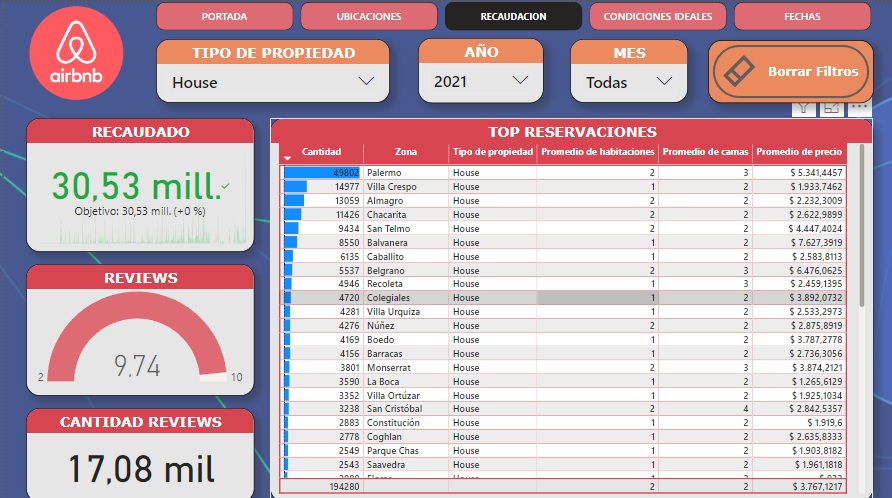

The dashboard page shown, as its layout file describes it:
{"tool":"powerbi","page":{"name":"RECAUDACION","canvas":[1280,720],"ordinal":4},"visuals":[{"type":"kpi","title":"RECAUDADO","fields":{"Indicator":["Sum(calendar.Precio)"],"TrendLine":["calendar.Precio"],"Goal":["Sum(calendar.Precio)"]},"box":[31.4,167.3,328.6,192.7],"z":0},{"type":"card","title":"CANTIDAD REVIEWS","fields":{"Values":["CountNonNull(reviews.Review_ID)"]},"box":[31.4,584,328.6,135.9],"z":1000},{"type":"tableEx","title":"TOP RESERVACIONES","fields":{"Values":["calendar.Lista_ID","listings.barrio","listings.tipo_propiedad","Avg(listings.habitaciones)","Avg(listings.camas)","Avg(listings.price)"]},"box":[382.4,167.3,869.3,552.6],"z":2000},{"type":"gauge","title":"REVIEWS","fields":{"Y":["Avg(listings.review_ubicacion)"],"MaxValue":["Max(listings.review_general)"],"MinValue":["Min(listings.review_general)"]},"box":[31.4,377.9,328.6,189.7],"z":3000},{"type":"image","box":[31.7,0,145.4,146.9],"z":4000},{"type":"slicer","title":"TIPO DE PROPIEDAD","fields":{"Values":["listings.tipo_propiedad"]},"box":[218.9,53.3,337,92.2],"z":5000},{"type":"slicer","title":"AÑO","fields":{"Values":["calendar.Fecha.Variación.Jerarquía de fechas.Año"]},"box":[596.2,51.8,181.4,93.6],"z":6000},{"type":"slicer","title":"MES","fields":{"Values":["calendar.Fecha.Variación.Jerarquía de fechas.Mes"]},"box":[815,53.3,169.9,92.2],"z":7000},{"type":"pageNavigator","box":[218.9,0,1033.9,41.8],"z":8000},{"type":"actionButton","box":[1013.8,54.7,239,90.7],"z":9000}]}

Visuals, with their boxes in screenshot pixels (x1, y1, x2, y2), scaled from the page's 1280x720 canvas onto the 892x498 screenshot:
"RECAUDADO" kpi: detection(22, 116, 251, 249)
"CANTIDAD REVIEWS" card: detection(22, 404, 251, 497)
"TOP RESERVACIONES" tableEx: detection(266, 116, 872, 497)
"REVIEWS" gauge: detection(22, 261, 251, 393)
image: detection(22, 0, 123, 102)
"TIPO DE PROPIEDAD" slicer: detection(153, 37, 387, 101)
"AÑO" slicer: detection(415, 36, 542, 101)
"MES" slicer: detection(568, 37, 686, 101)
pageNavigator: detection(153, 0, 873, 29)
actionButton: detection(706, 38, 873, 101)
